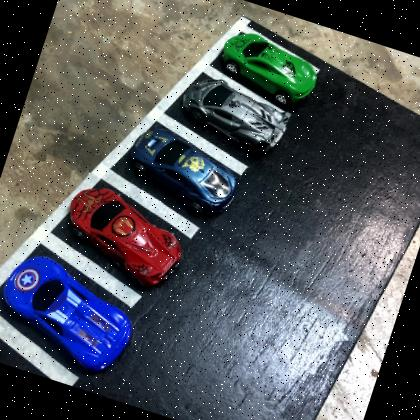Car: (0, 246, 146, 380), (52, 178, 194, 296), (116, 120, 248, 226), (174, 69, 296, 160), (212, 23, 325, 109)
